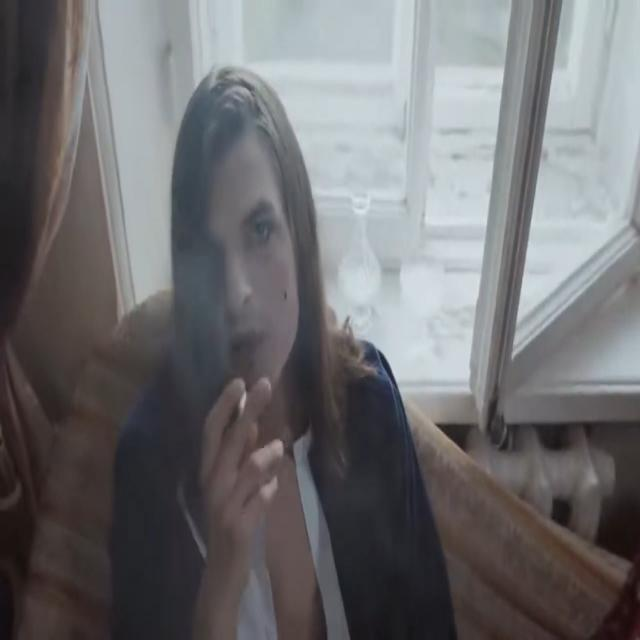Курение: (236, 386, 251, 422)
